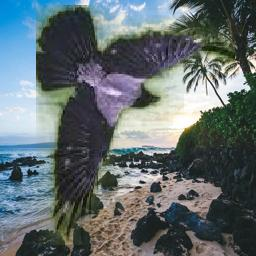Crow: (37, 5, 236, 245)
